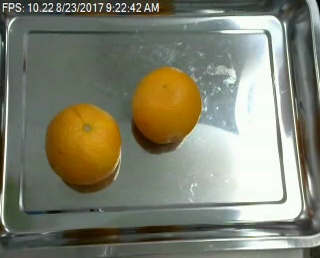Orange: (43, 104, 120, 185), (130, 67, 201, 144)
